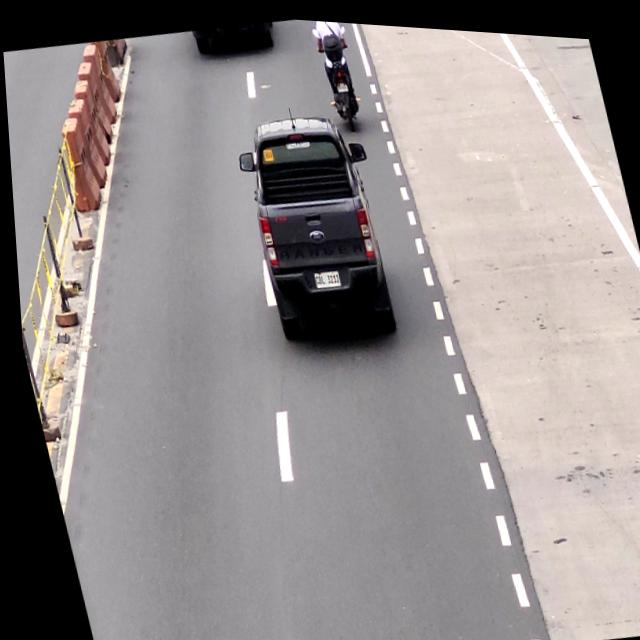Car: (230, 101, 396, 347)
License-Plate: (307, 263, 338, 285)
Motorcycle: (311, 16, 361, 120)
